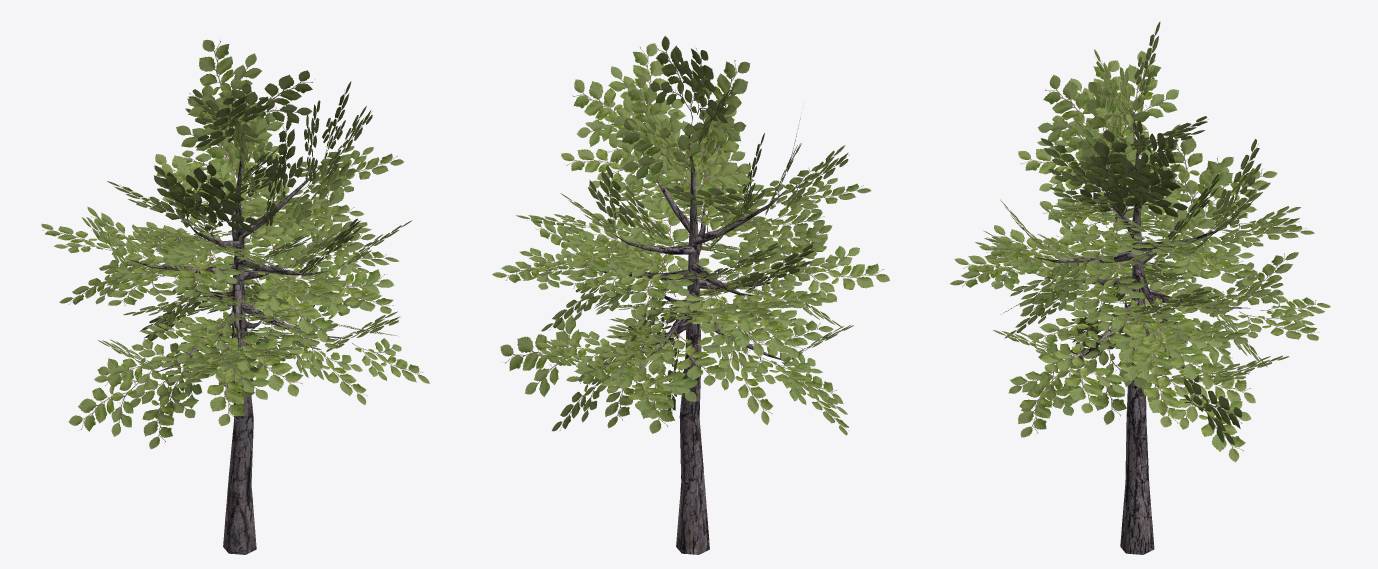
The model's file is Tree_2.fbx.
The picture shows the model from 3 angles, left to right: view 1: azimuth 30°, elevation 25°; view 2: azimuth 150°, elevation 25°; view 3: azimuth 270°, elevation 25°; orthographic projection.
Visible parts, largest first — view 1: leaves, tree; view 2: leaves, tree; view 3: leaves, tree.
Part boxes in pixels (x1,y1,x2,y2): leaves: (41,39,429,449); tree: (126,129,342,554); leaves: (492,36,889,435); tree: (584,116,792,554); leaves: (949,21,1330,462); tree: (1033,118,1250,554).
Size of the model in its own units: 1752 by 2471 by 1796.
2 materials, 2 textured.
